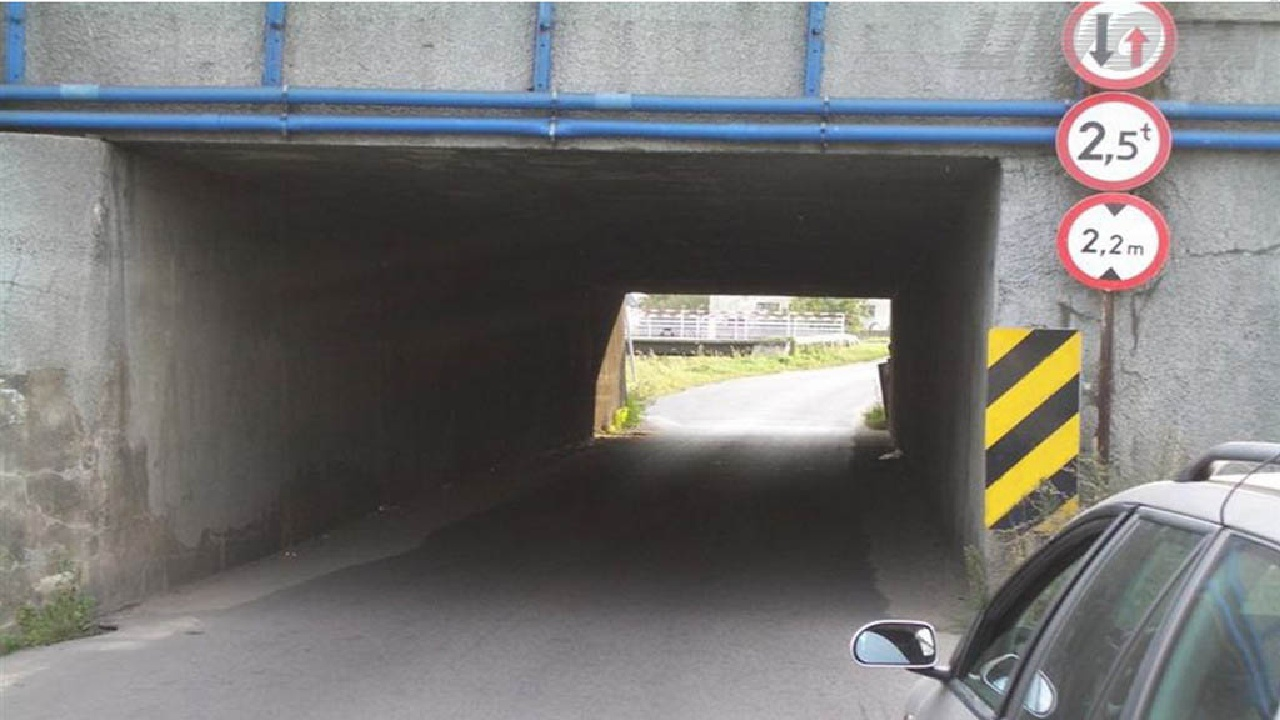B31: (1063, 5, 1178, 89)
